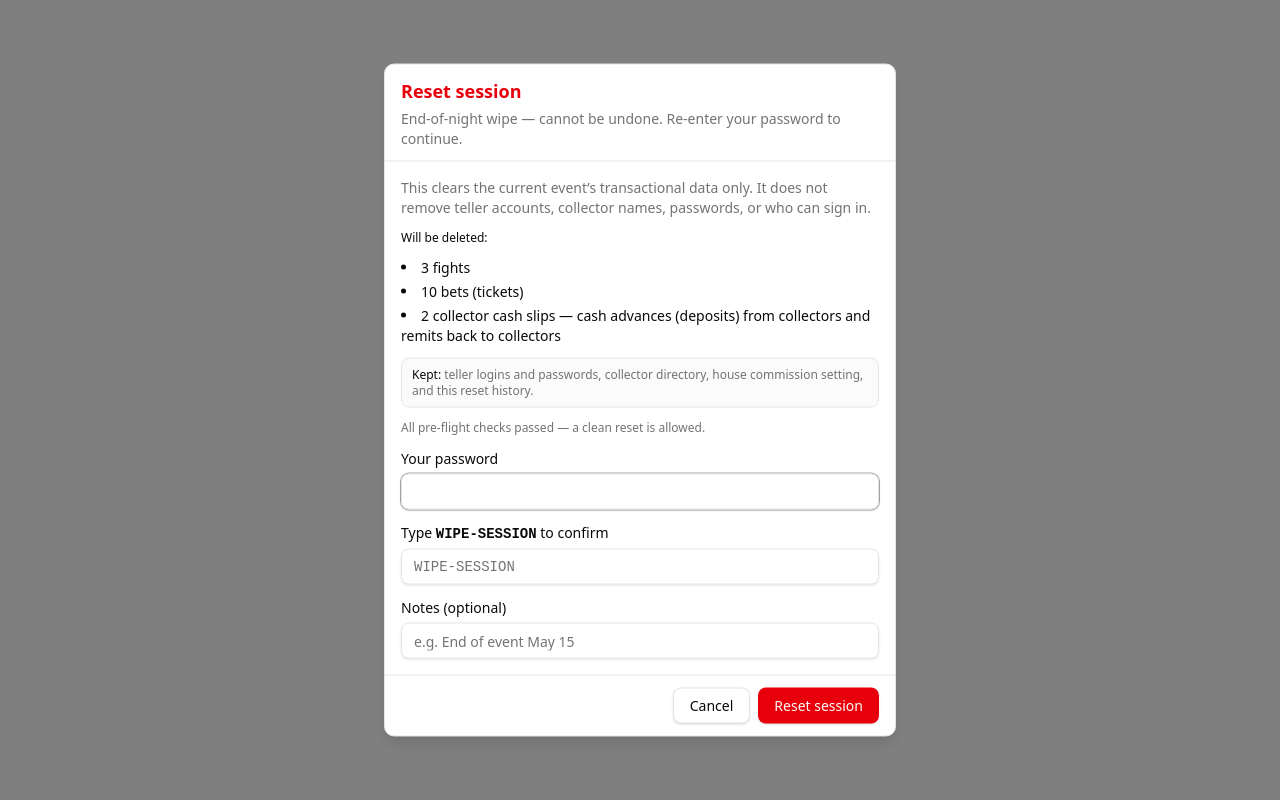
it: SessionResetDialog › blocks submit without password and confirm text
Click the button "Reset session": (819, 706) x1=758 y1=688 x2=879 y2=724
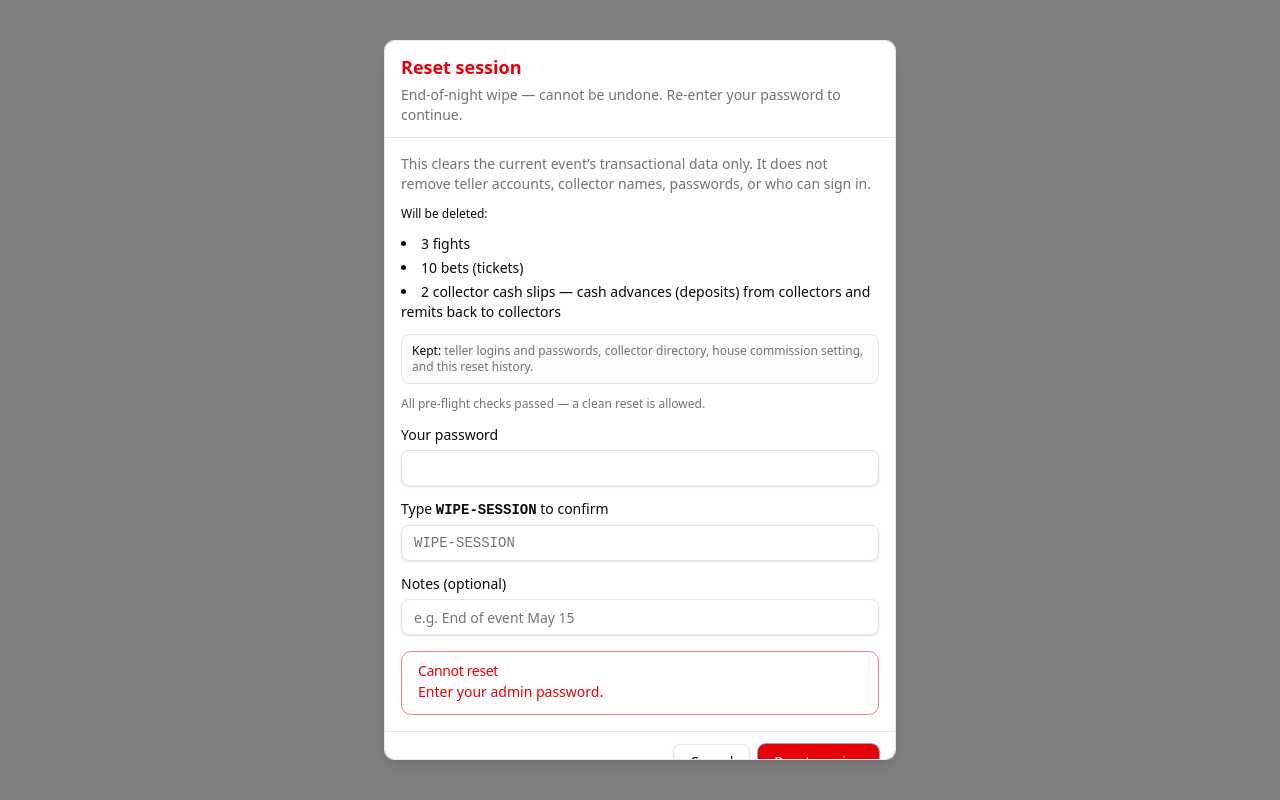
Now the text "Enter your admin password." is shown, box x1=418 y1=682 x2=603 y2=701
